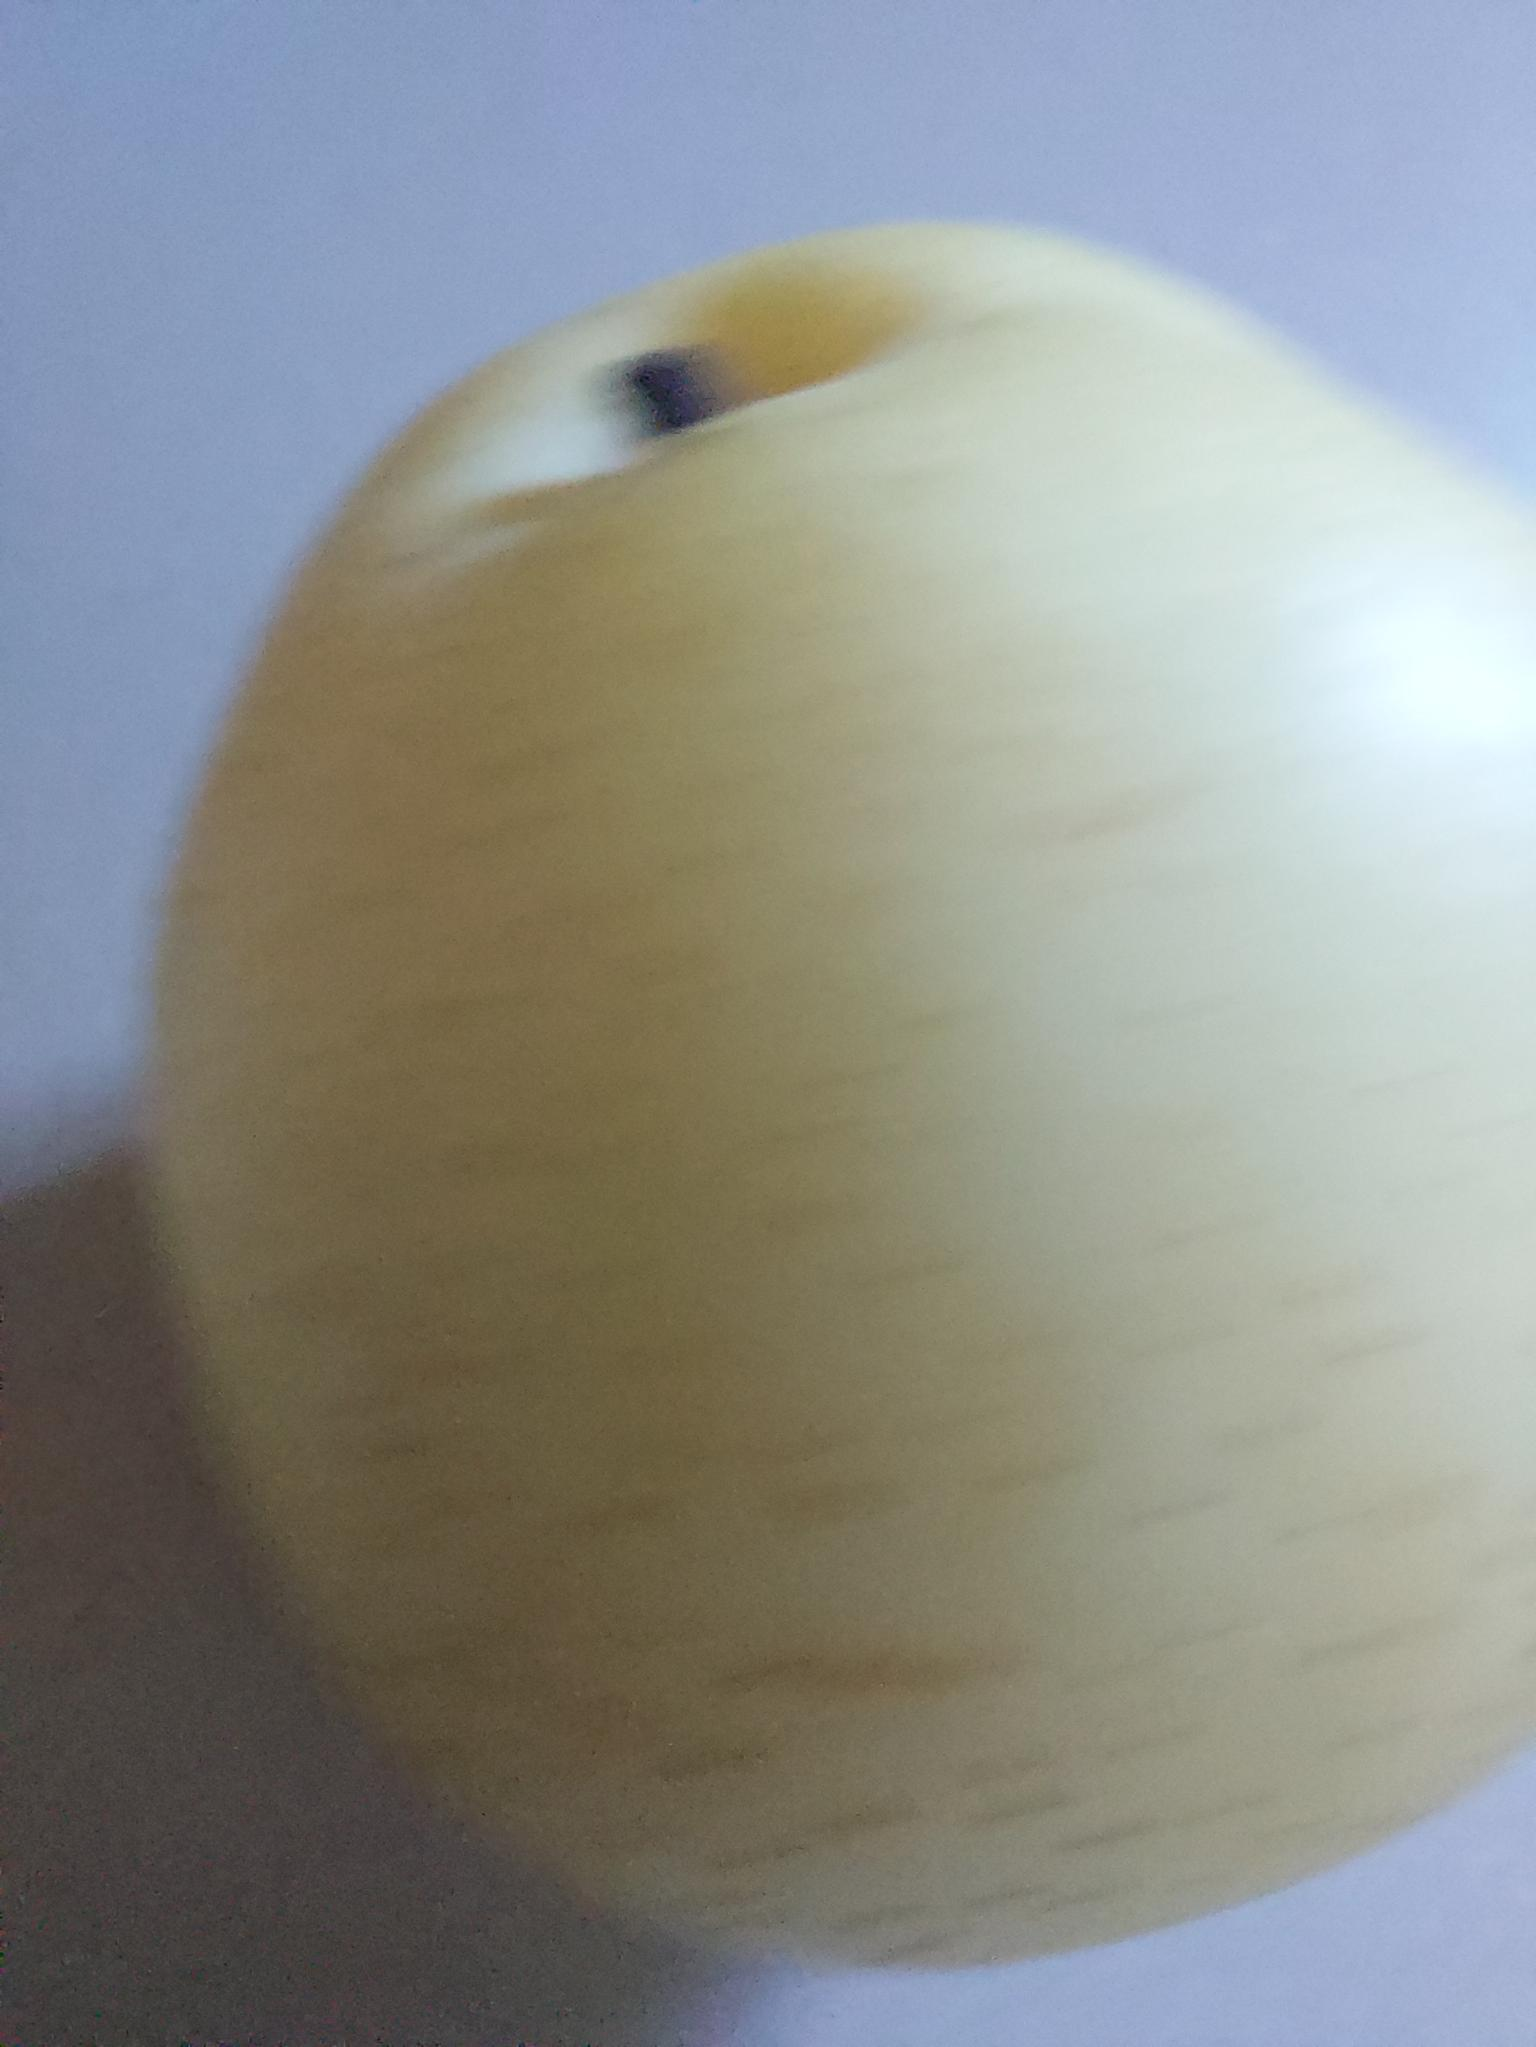Good Pear: (100, 208, 1536, 1965)
